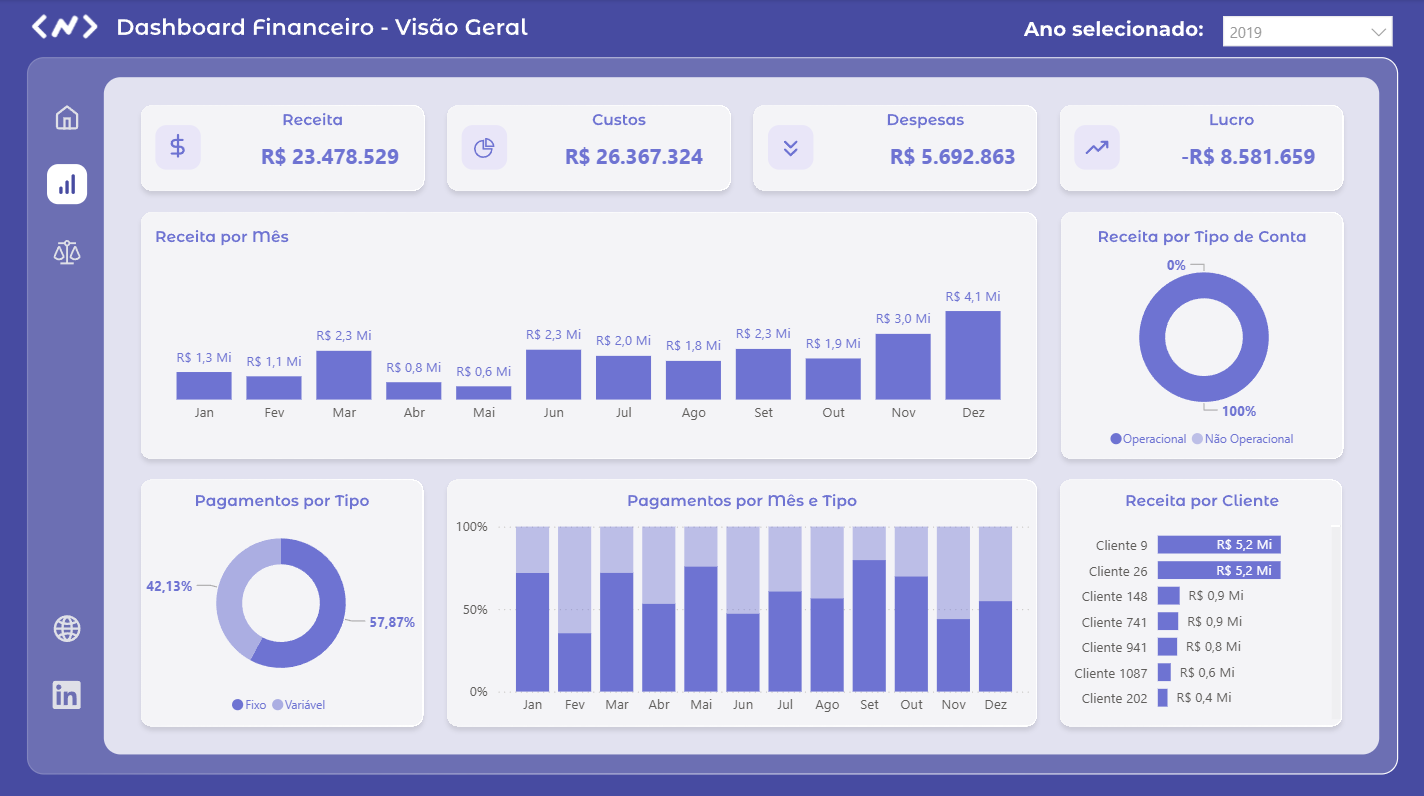

This screenshot's page, from the dashboard's own definition file:
{"tool":"powerbi","page":{"name":"Visão geral","canvas":[1280,720],"ordinal":1},"visuals":[{"type":"cardVisual","fields":{"Data":["_Medidas.Receitas"]},"box":[140,104.1,240.6,61.9],"z":0},{"type":"cardVisual","fields":{"Data":["_Medidas.Custos"]},"box":[413,104.1,240.6,61.9],"z":1000},{"type":"cardVisual","fields":{"Data":["_Medidas.Despesas"]},"box":[694,104.1,240.6,61.9],"z":2000},{"type":"cardVisual","fields":{"Data":["_Medidas.Lucro"]},"box":[994.7,104.1,208.3,61.9],"z":3000},{"type":"columnChart","fields":{"Category":["dCalendario.MesAbreviado"],"Y":["_Medidas.Receitas"]},"box":[129.3,239.7,800.8,149.9],"z":4000},{"type":"donutChart","fields":{"Category":["dPlanoContas.conta"],"Y":["_Medidas.Receitas"]},"box":[954.3,220.8,255,192.1],"z":5000},{"type":"donutChart","fields":{"Category":["dPlanoContas.tipo"],"Y":["_Medidas.Despesas"]},"box":[125.7,459.7,255,192.1],"z":6000},{"type":"hundredPercentStackedColumnChart","fields":{"Y":["_Medidas.Despesas"],"Category":["dCalendario.MesAbreviado"],"Series":["dPlanoContas.tipo"]},"box":[404,459.7,526.1,192.1],"z":7000},{"type":"barChart","fields":{"Y":["_Medidas.Receitas"],"Category":["fRecebimentos.cliente"]},"box":[954.3,459.7,255,192.1],"z":8000},{"type":"slicer","fields":{"Values":["dCalendario.Ano"]},"box":[1089,5.4,172.4,39.5],"z":9000},{"type":"actionButton","box":[35.9,209.2,50.3,40.4],"z":10000},{"type":"actionButton","box":[35.9,83.5,50.3,40.4],"z":11000},{"type":"actionButton","box":[35.9,602.4,50.3,40.4],"z":12000}]}

Visuals, with their boxes in screenshot pixels (x1, y1, x2, y2), scaled from the page's 1280x720 canvas onto the 1424x796 screenshot:
cardVisual - _Medidas.Receitas: [156, 115, 423, 184]
cardVisual - _Medidas.Custos: [459, 115, 727, 184]
cardVisual - _Medidas.Despesas: [772, 115, 1040, 184]
cardVisual - _Medidas.Lucro: [1107, 115, 1338, 184]
columnChart - dCalendario.MesAbreviado x _Medidas.Receitas: [144, 265, 1035, 431]
donutChart - dPlanoContas.conta x _Medidas.Receitas: [1062, 244, 1345, 456]
donutChart - dPlanoContas.tipo x _Medidas.Despesas: [140, 508, 424, 721]
hundredPercentStackedColumnChart - _Medidas.Despesas x dCalendario.MesAbreviado: [449, 508, 1035, 721]
barChart - _Medidas.Receitas x fRecebimentos.cliente: [1062, 508, 1345, 721]
slicer - dCalendario.Ano: [1212, 6, 1403, 50]
actionButton: [40, 231, 96, 276]
actionButton: [40, 92, 96, 137]
actionButton: [40, 666, 96, 711]
